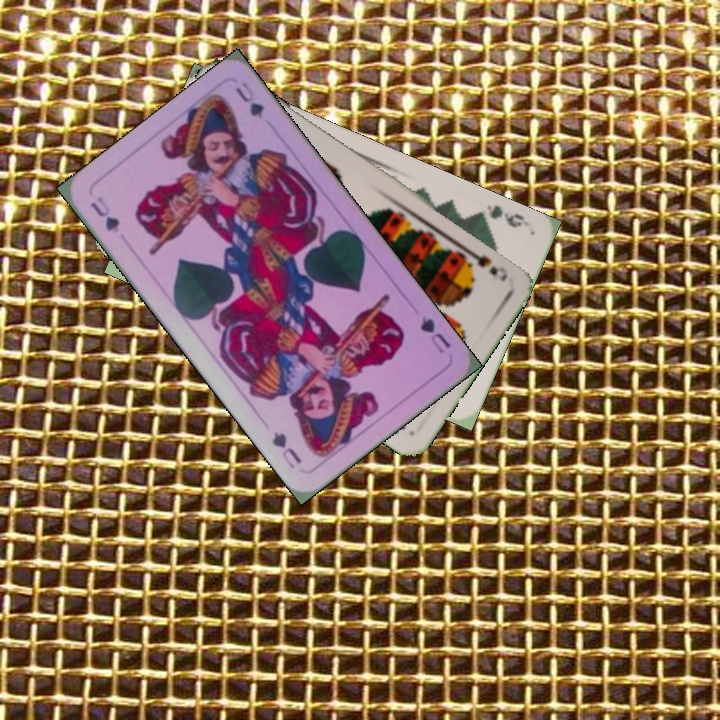G9: (472, 200, 527, 231)
GU: (416, 312, 454, 356), (86, 192, 122, 237)
S9: (456, 243, 501, 278)
